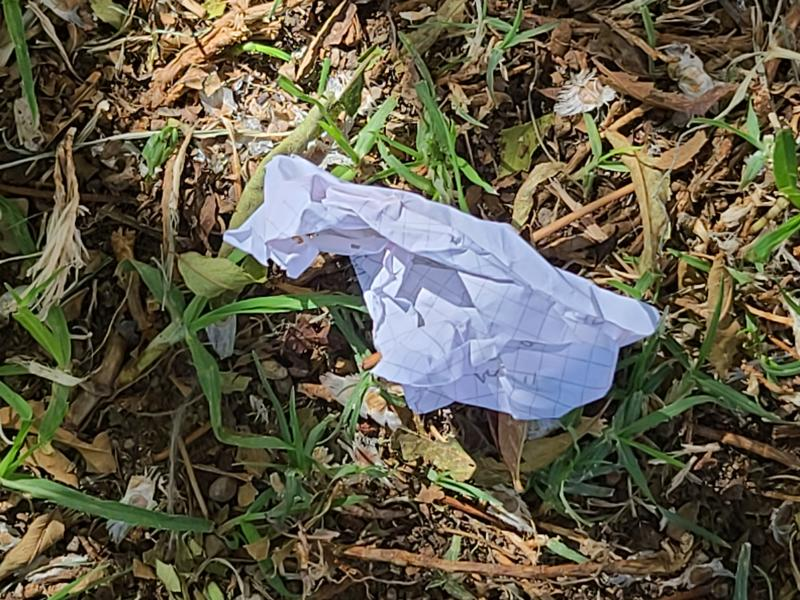papel: (223, 155, 661, 422)
